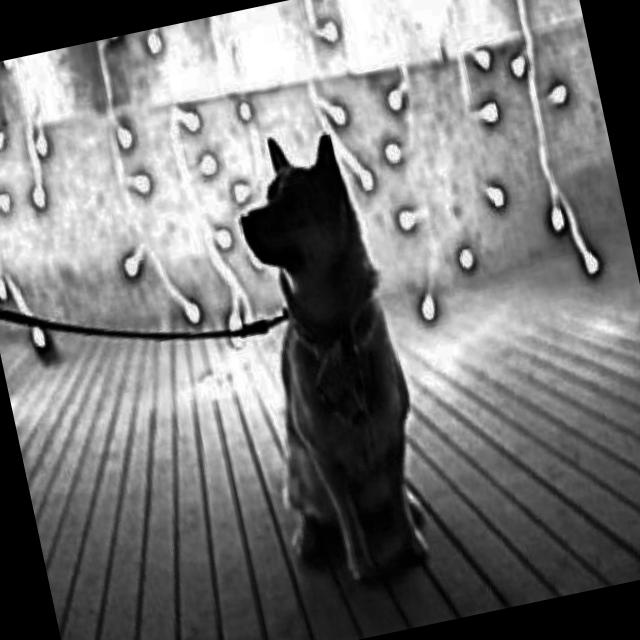Dog: (202, 110, 463, 610)
